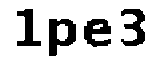1: (15, 6, 43, 50)
3: (118, 5, 152, 49)
e: (84, 16, 114, 50)
p: (47, 14, 77, 60)
